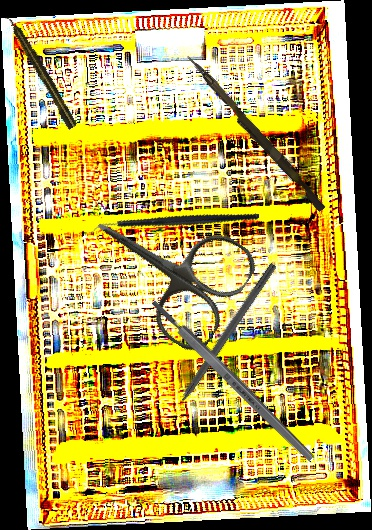Chopper: (88, 168, 260, 281)
Handpiece: (3, 12, 79, 131)
Hook Surgical: (164, 261, 278, 422)
Iris Scissors: (67, 174, 263, 358)
Pusher: (180, 53, 330, 213)
Scalpel Handle: (149, 297, 316, 464)
